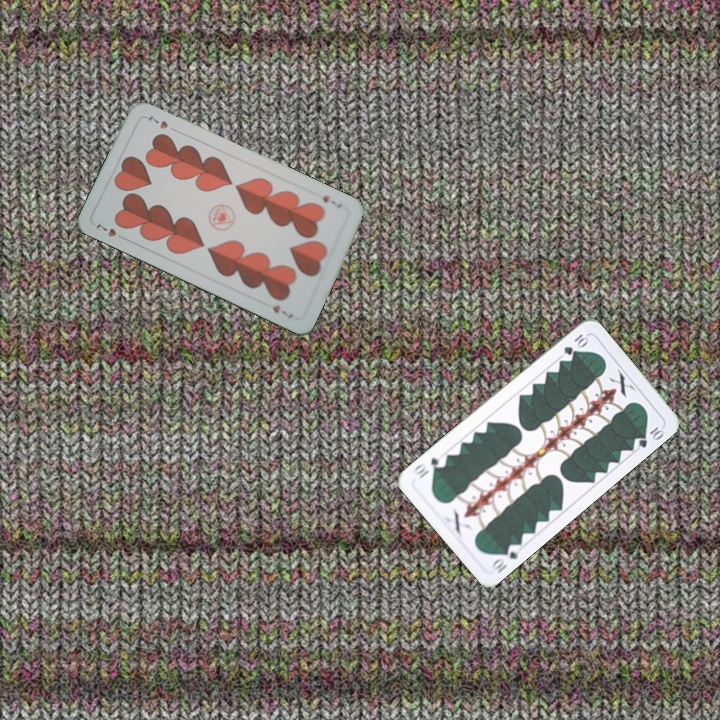G10: (487, 540, 521, 576), (559, 330, 591, 358)
H7: (92, 219, 129, 243), (318, 191, 345, 210)
